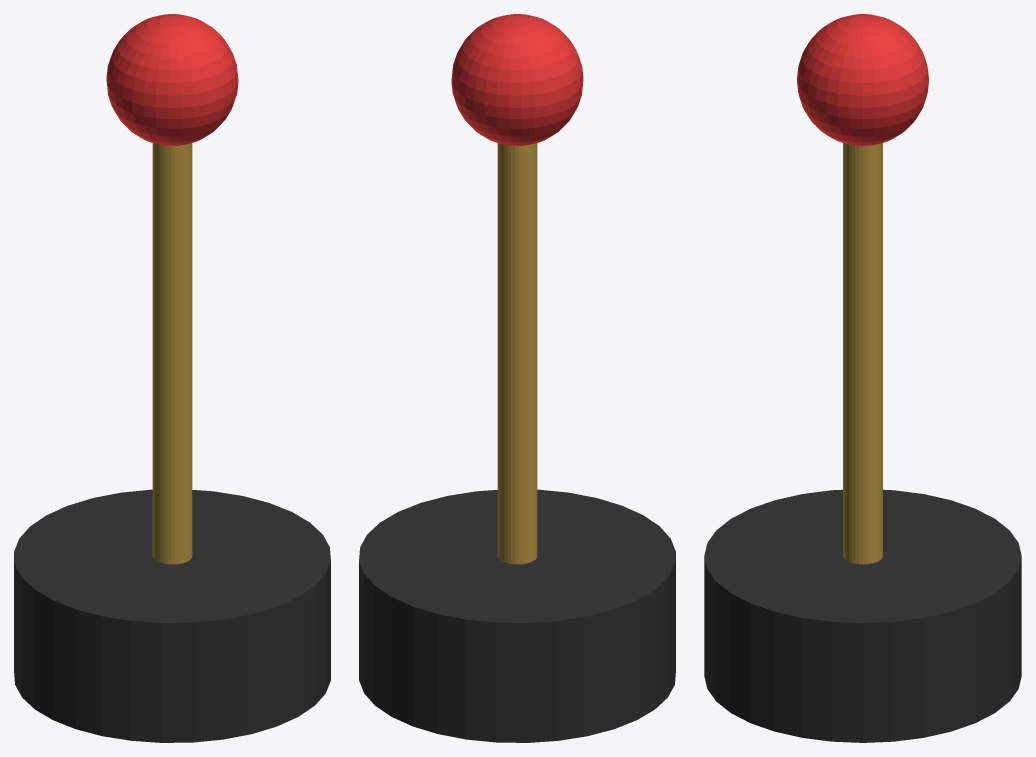
Rendered from Bouy.fbx.
3 renders of one model, left to right at view 1: azimuth 30°, elevation 25°; view 2: azimuth 150°, elevation 25°; view 3: azimuth 270°, elevation 25°, orthographic.
Parts seen in each view (by area): view 1: Base, Cylinder, Sphere; view 2: Base, Cylinder, Sphere; view 3: Base, Cylinder, Sphere.
Boxes of the visible parts, left/top/right/bottom form: Base: left=14, top=489, right=330, bottom=742; Cylinder: left=152, top=143, right=192, bottom=564; Sphere: left=106, top=14, right=238, bottom=145; Base: left=359, top=489, right=675, bottom=742; Cylinder: left=497, top=143, right=537, bottom=564; Sphere: left=451, top=14, right=583, bottom=145; Base: left=704, top=489, right=1021, bottom=742; Cylinder: left=843, top=143, right=882, bottom=564; Sphere: left=797, top=14, right=928, bottom=145.
Bounding box in the file's own units: 240 × 547 × 240.
